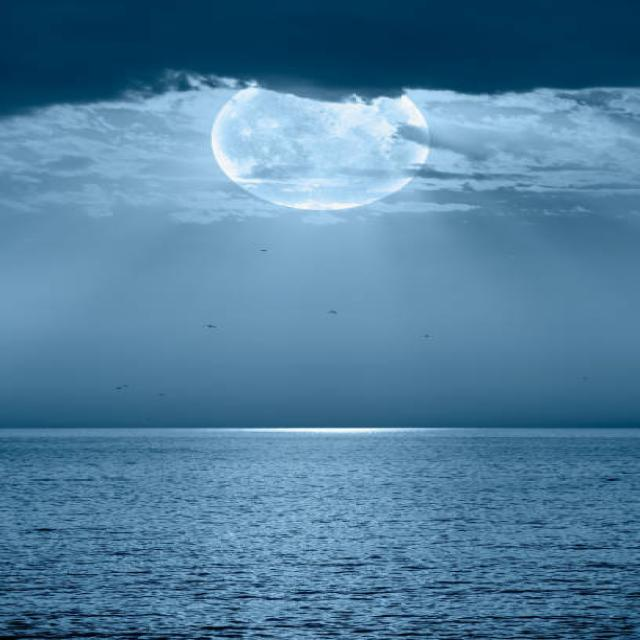moon: (203, 64, 424, 214)
